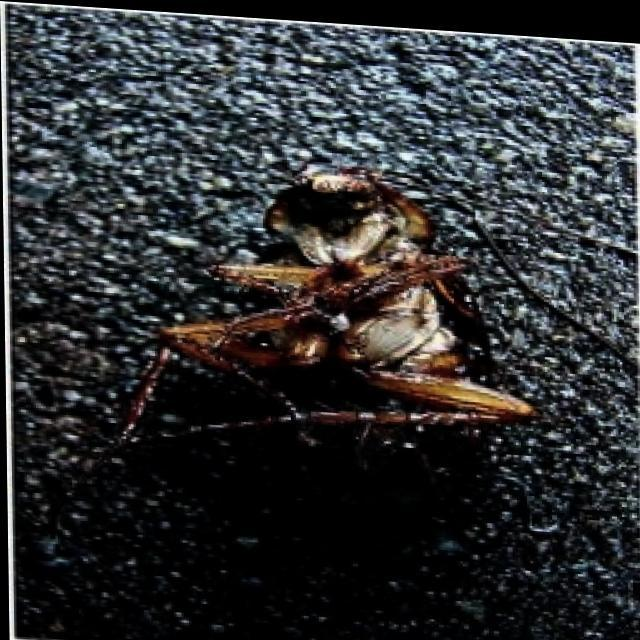cockroach: (141, 104, 555, 524)
